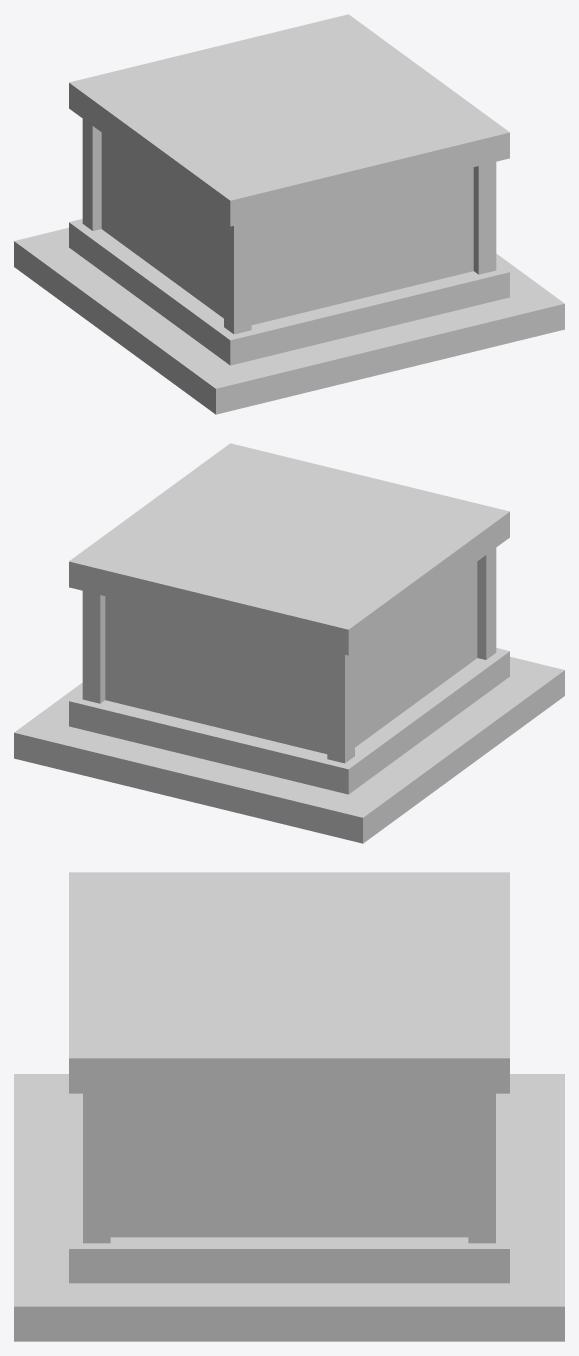
File: pedestal.obj
The picture shows the model from 3 angles, top to bottom: view 1: azimuth 30°, elevation 25°; view 2: azimuth 150°, elevation 25°; view 3: azimuth 270°, elevation 25°; orthographic projection. The views are drawn at different scales.
Visible parts, largest first — view 1: Cube.001; view 2: Cube.001; view 3: Cube.001.
Part boxes in pixels (<box>): Cube.001: <box>14,14,564,414</box>; Cube.001: <box>14,443,564,843</box>; Cube.001: <box>14,872,564,1341</box>.
Bounding box in the file's own units: 0.9982 × 0.5211 × 1.
Materials: 1 (1 with a texture image).
